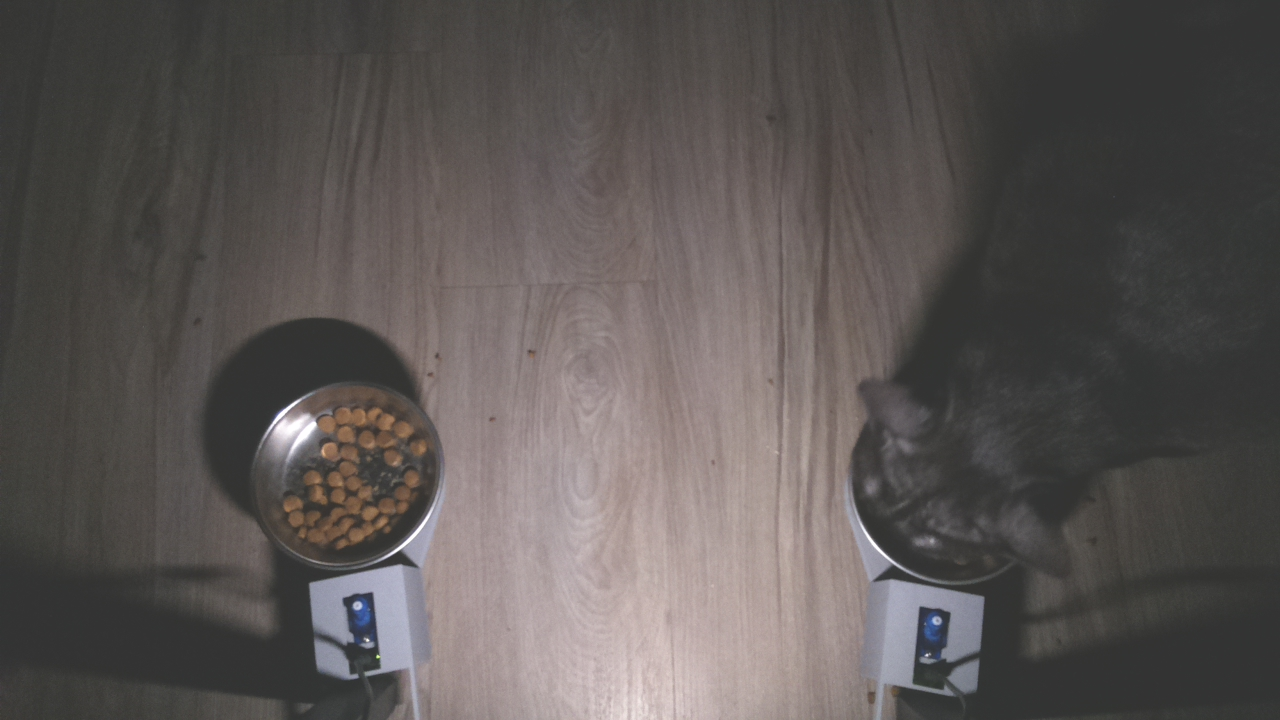open_bowl: (244, 373, 445, 573)
saki_eating: (825, 361, 1098, 593)
